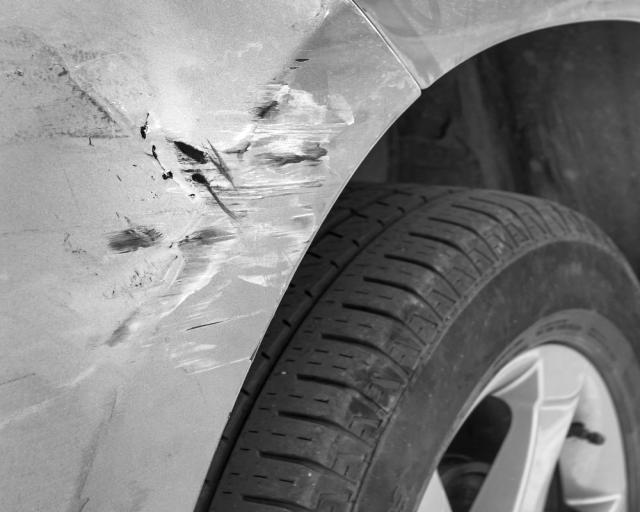scratch: (59, 48, 353, 376)
